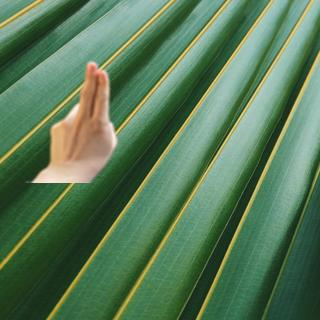DHAVE: (39, 57, 120, 169)
